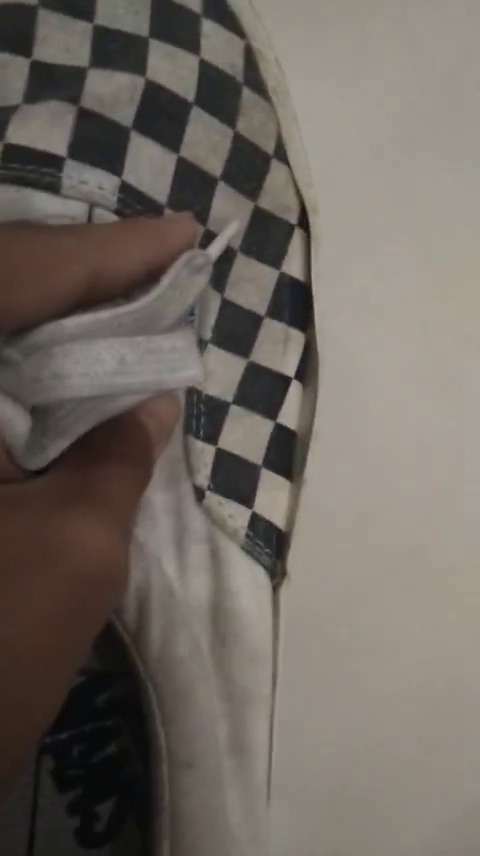bonding: (282, 201, 324, 559)
